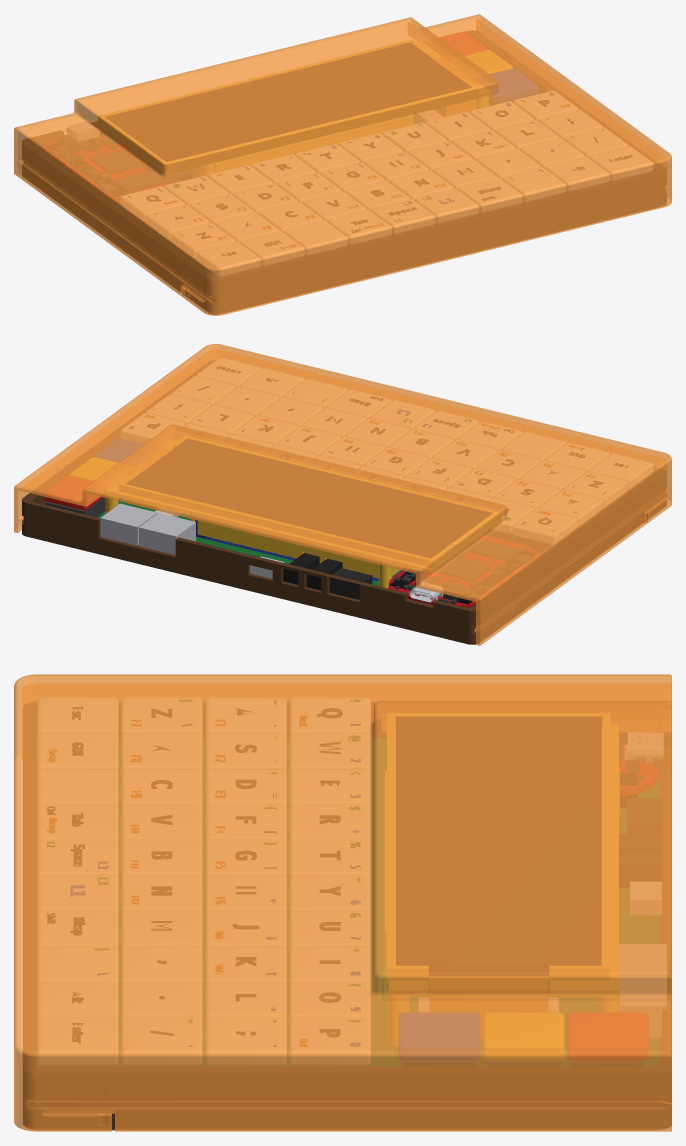
File: cover_walnut.glb
3 renders of one model, top to bottom at view 1: azimuth 30°, elevation 25°; view 2: azimuth 150°, elevation 25°; view 3: azimuth 270°, elevation 25°, orthographic. The views are drawn at different scales.
Parts seen in each view (by area): view 1: Lid, Internals, Tray; view 2: Lid, Internals, Tray; view 3: Lid, Internals, Tray.
Boxes of the visible parts, <box> form: Lid: <box>14,14,671,315</box>; Internals: <box>45,32,652,276</box>; Tray: <box>22,31,665,314</box>; Lid: <box>14,344,671,645</box>; Internals: <box>44,358,652,607</box>; Tray: <box>22,361,665,644</box>; Lid: <box>14,674,671,1131</box>; Internals: <box>36,698,666,1065</box>; Tray: <box>23,702,671,1130</box>.
Bounding box in the file's own units: 0.1818 × 0.0232 × 0.133.
